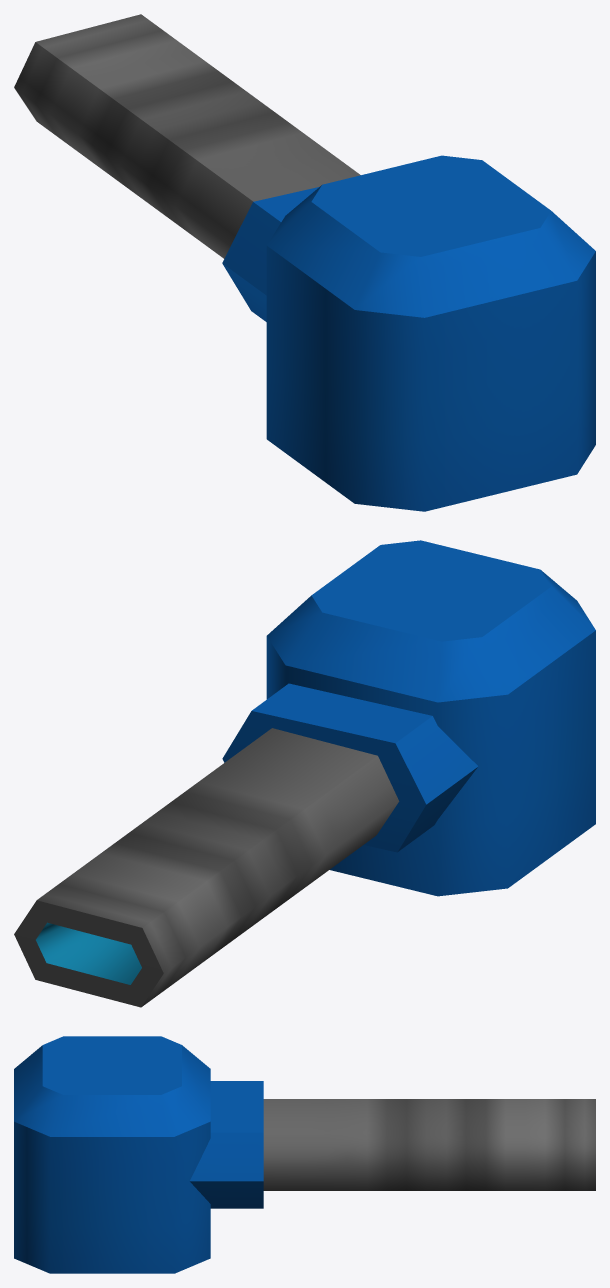
The model's file is MachineGun1Enemy3.fbx.
3 views of the same model, one above another, from view 1: azimuth 30°, elevation 25°; view 2: azimuth 150°, elevation 25°; view 3: azimuth 270°, elevation 25° (orthographic). The views are drawn at different scales.
Visible parts, largest first — view 1: MachineGun1Enemy3; view 2: MachineGun1Enemy3; view 3: MachineGun1Enemy3.
Boxes of the visible parts, box(x1,y1,x2,y2) form: MachineGun1Enemy3: box(14, 14, 595, 511); MachineGun1Enemy3: box(14, 540, 595, 1007); MachineGun1Enemy3: box(14, 1036, 595, 1273).
Size of the model in its own units: 0.8578 by 0.29 by 0.271.
